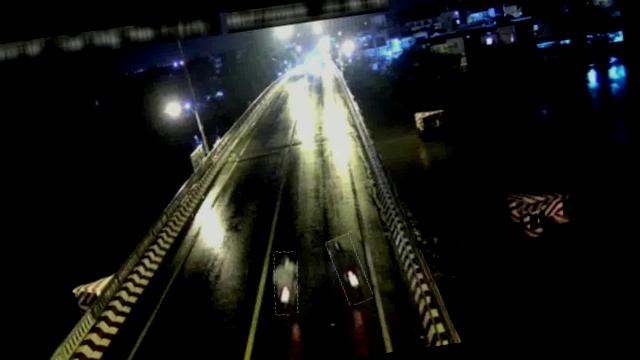Bike: (328, 232, 370, 306), (268, 250, 304, 316)
